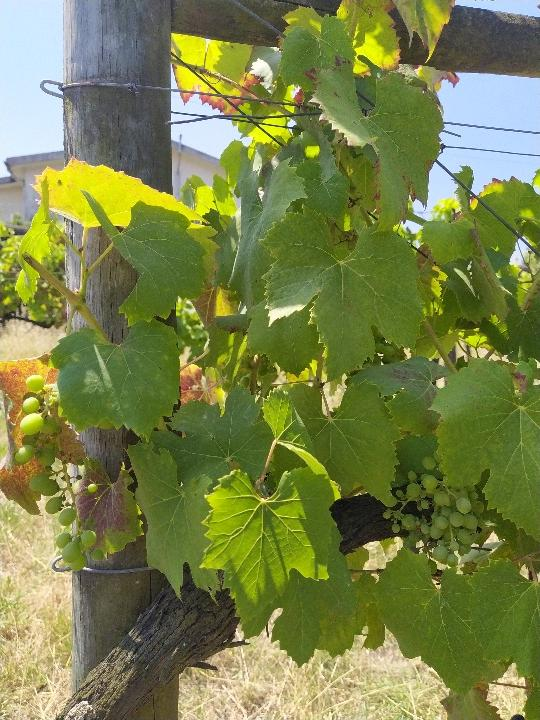grape: (12, 374, 102, 571), (382, 453, 488, 578)
